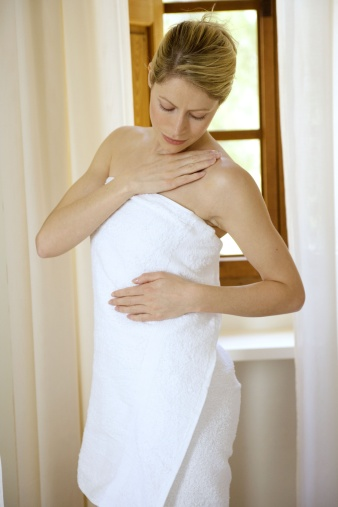em pe: (43, 42, 298, 507)
